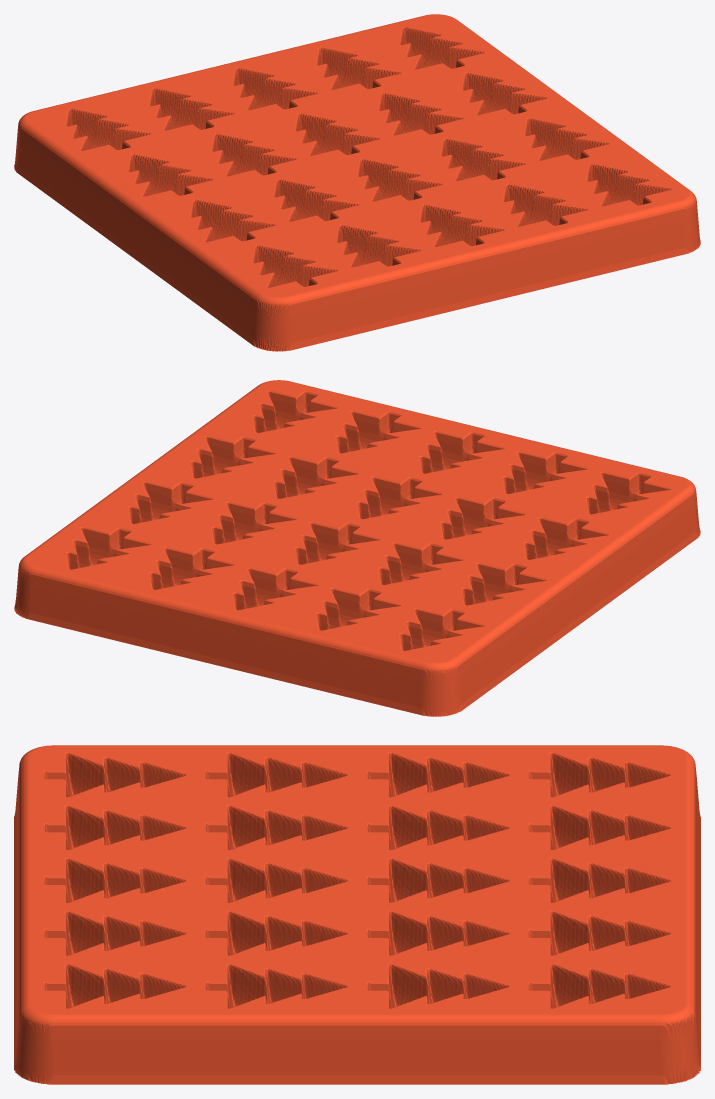
Rendered from mold.glb.
3 views of the same model, one above another, from view 1: azimuth 30°, elevation 25°; view 2: azimuth 150°, elevation 25°; view 3: azimuth 270°, elevation 25° (orthographic). The views are drawn at different scales.
Visible parts, largest first — view 1: geometry_0; view 2: geometry_0; view 3: geometry_0.
Part boxes in pixels (box(x1,y1,x2,y2)): geometry_0: box(14, 14, 700, 351); geometry_0: box(14, 380, 700, 716); geometry_0: box(14, 745, 700, 1084).
Size of the model in its own units: 0.1515 by 0.0159 by 0.1563.
